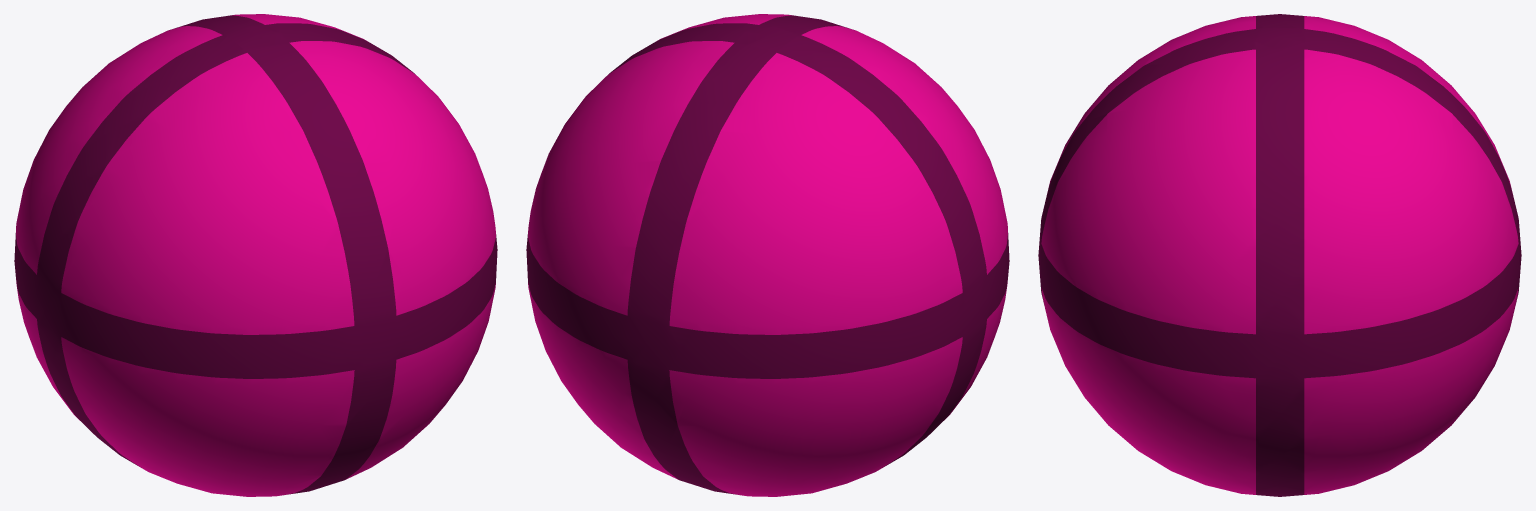
Rendered from Cross Ball.glb.
3 views of the same model, side by side, from view 1: azimuth 30°, elevation 25°; view 2: azimuth 150°, elevation 25°; view 3: azimuth 270°, elevation 25° (orthographic).
Parts seen in each view (by area): view 1: fill, cross; view 2: fill, cross; view 3: fill, cross.
Boxes of the visible parts, <box> form: fill: <box>16,14,495,496</box>; cross: <box>14,15,497,494</box>; fill: <box>528,14,1007,496</box>; cross: <box>526,15,1009,494</box>; fill: <box>1041,16,1518,494</box>; cross: <box>1038,14,1521,496</box>.
Size of the model in its own units: 2 by 2 by 2.
